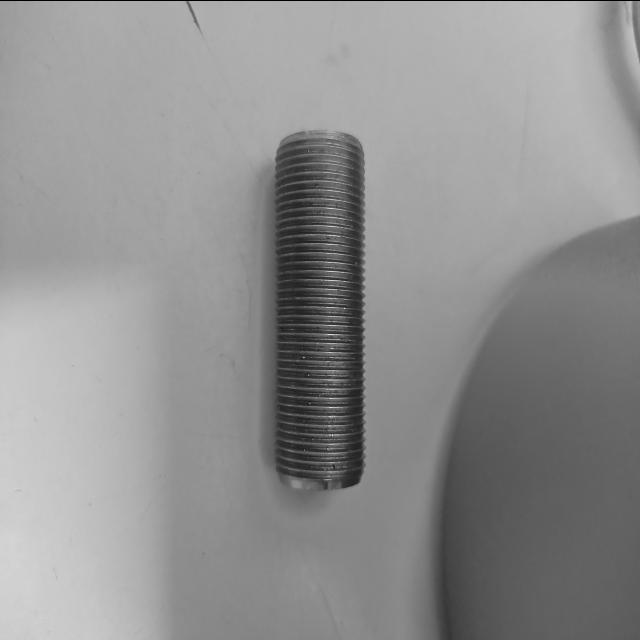Normal: (272, 128, 366, 490)
